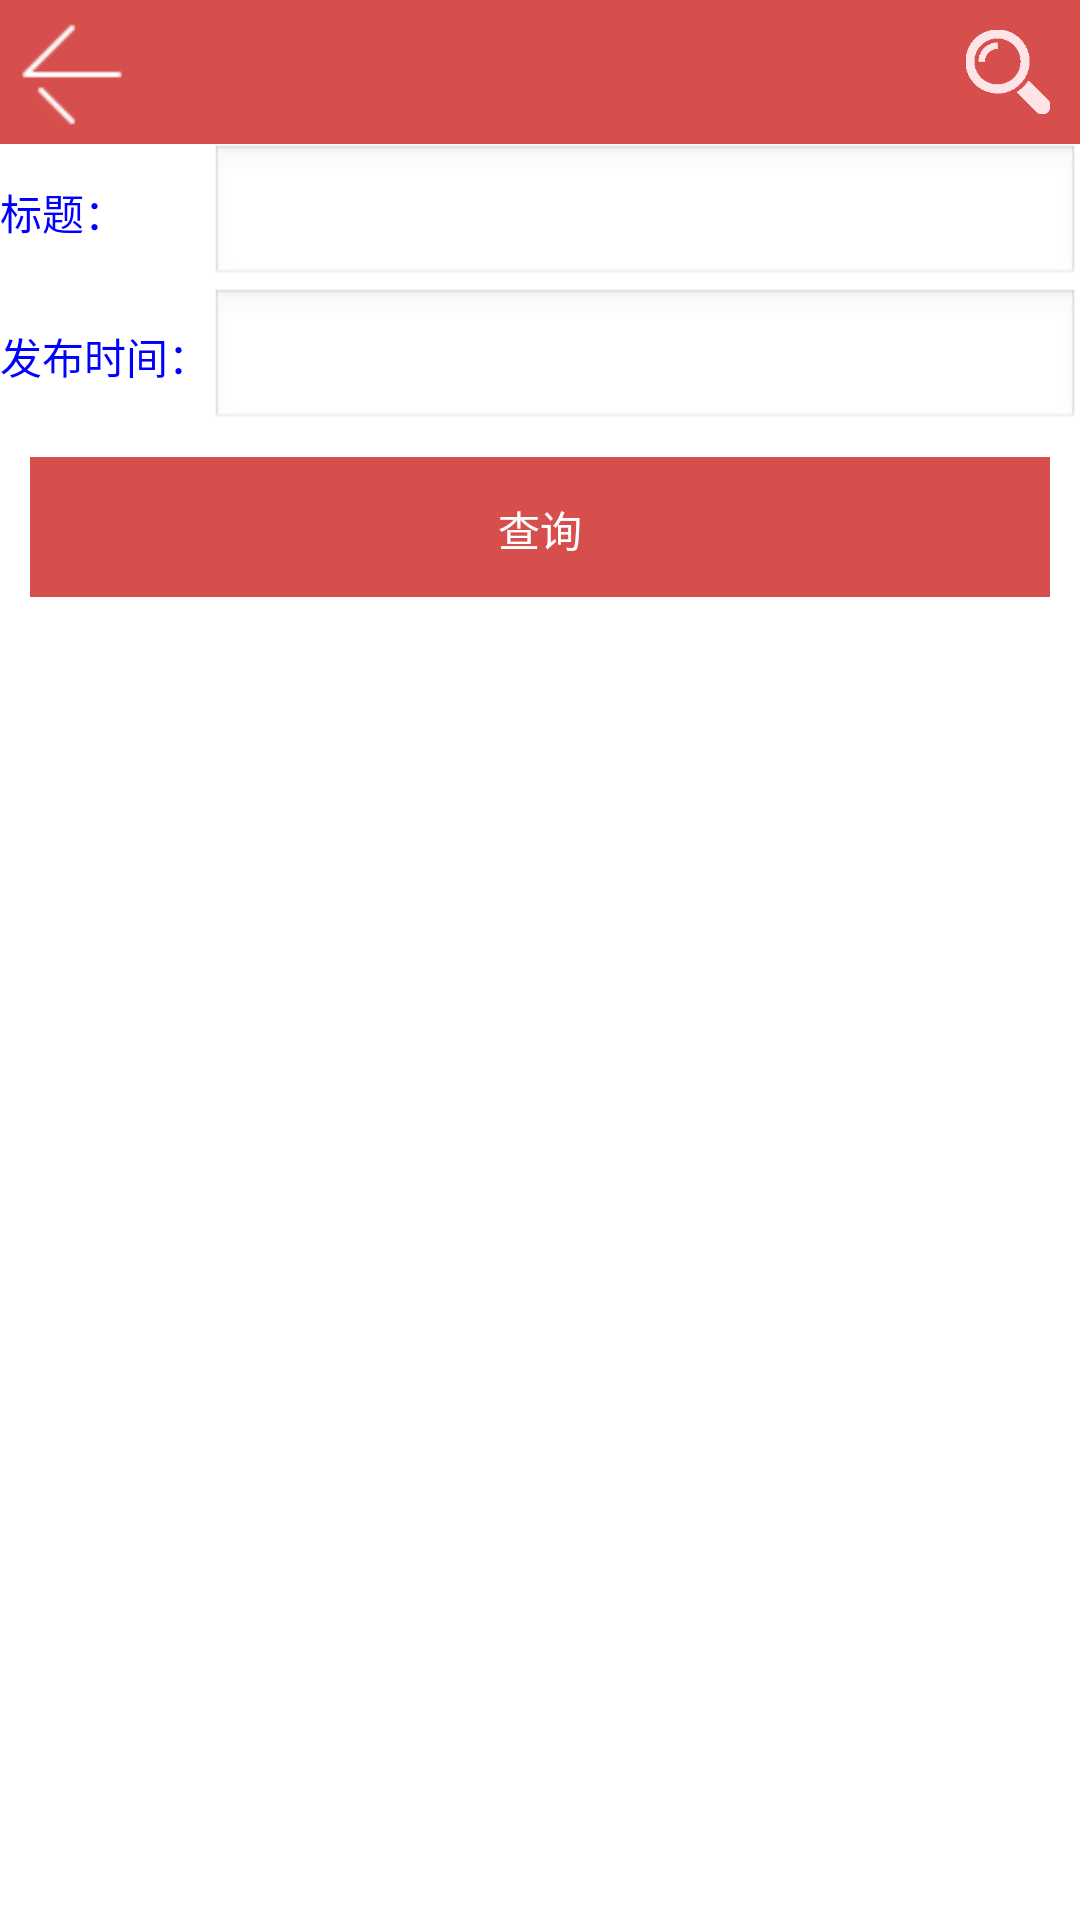

Where to tap for icons on this 1080 × 1920 app screen, as point (x, y):
left: point (72, 75)
search: point (1008, 72)
